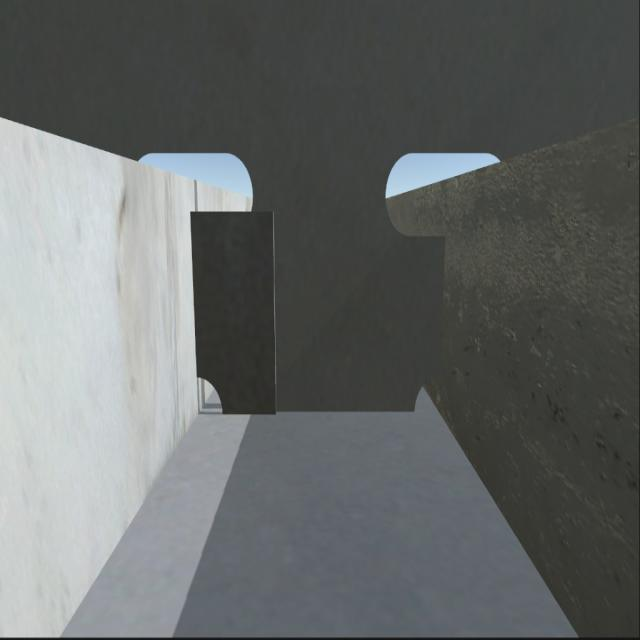fillet_hole: (197, 369, 231, 412), (415, 374, 442, 412)
fillet_yong_jeop_jang: (222, 401, 420, 424)
longi_yong_jeop_jang: (188, 209, 208, 375), (435, 234, 452, 378)
plate_CP01: (194, 208, 273, 410)
